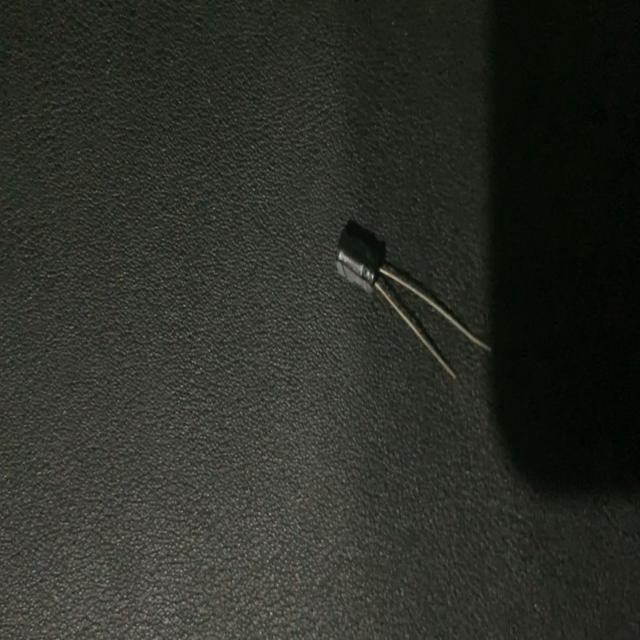capacitor: (332, 230, 490, 380)
